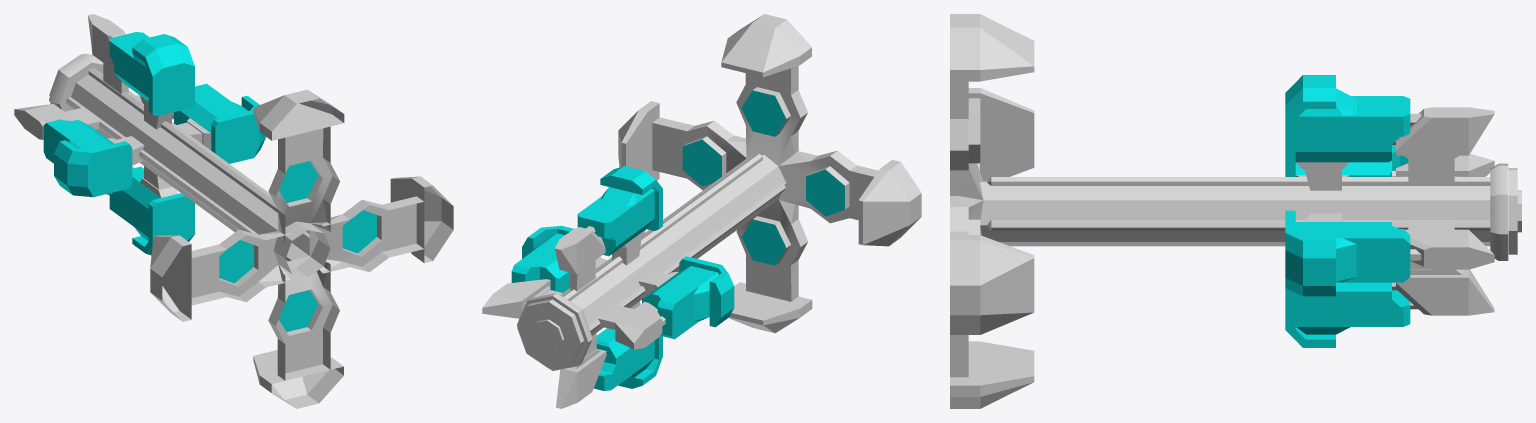
The model's file is Axiel_HAM.fbx.
The picture shows the model from 3 angles, left to right: view 1: azimuth 30°, elevation 25°; view 2: azimuth 150°, elevation 25°; view 3: azimuth 270°, elevation 25°; orthographic projection. The views are drawn at different scales.
Visible parts, largest first — view 1: polySurface176, polySurface159, polySurface166; view 2: polySurface176, polySurface159, polySurface166; view 3: polySurface176, polySurface159, polySurface166.
Boxes of the visible parts, bbox=[...] form: polySurface176: bbox=[49, 53, 453, 408]; polySurface159: bbox=[43, 32, 265, 255]; polySurface166: bbox=[14, 14, 173, 195]; polySurface176: bbox=[517, 14, 921, 370]; polySurface159: bbox=[511, 166, 734, 390]; polySurface166: bbox=[482, 227, 662, 408]; polySurface176: bbox=[950, 14, 1521, 408]; polySurface159: bbox=[1285, 75, 1421, 347]; polySurface166: bbox=[1396, 107, 1494, 315].
Size of the model in its own units: 17.13 by 17.13 by 23.29.
